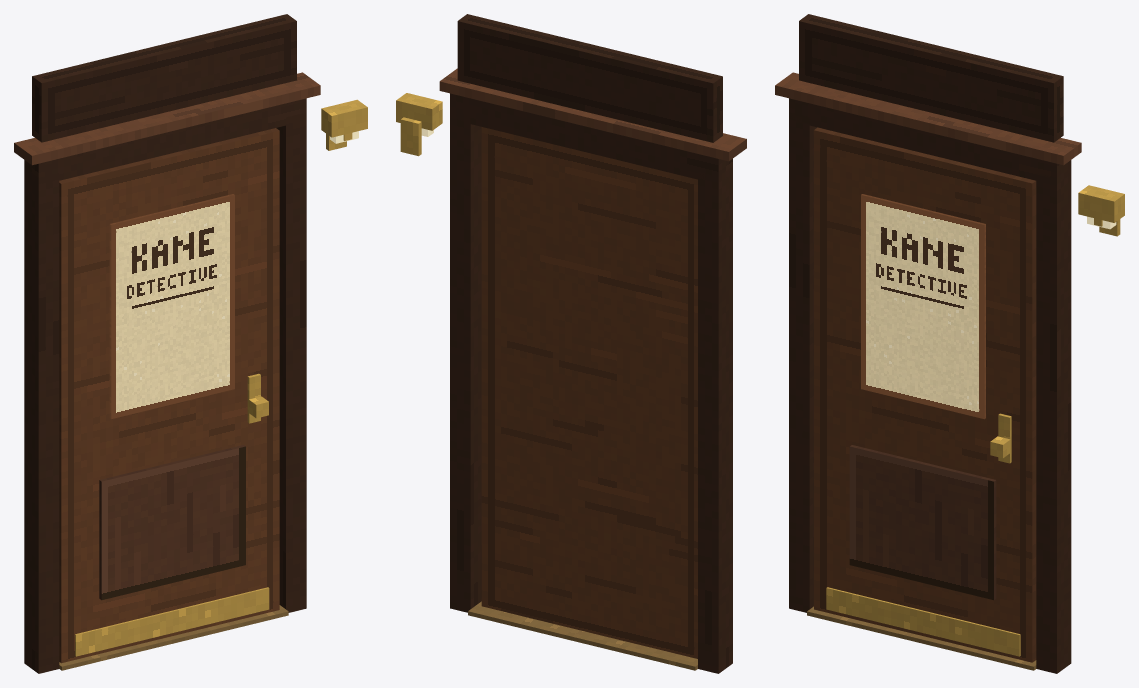
File: door.glb
3 views of the same model, side by side, from view 1: azimuth 30°, elevation 25°; view 2: azimuth 150°, elevation 25°; view 3: azimuth 330°, elevation 25° (orthographic).
Visible parts, largest first — view 1: leaf, door; view 2: leaf, door; view 3: leaf, door.
Part boxes in pixels (left/top/right/bottom): leaf: left=59, top=128, right=279, bottom=663; door: left=14, top=14, right=367, bottom=673; leaf: left=481, top=127, right=697, bottom=658; door: left=396, top=14, right=746, bottom=673; leaf: left=814, top=127, right=1036, bottom=662; door: left=775, top=14, right=1124, bottom=673.
Bounding box in the file's own units: 1.64 × 2.72 × 0.2094.
Materials: 2 (2 with a texture image).
